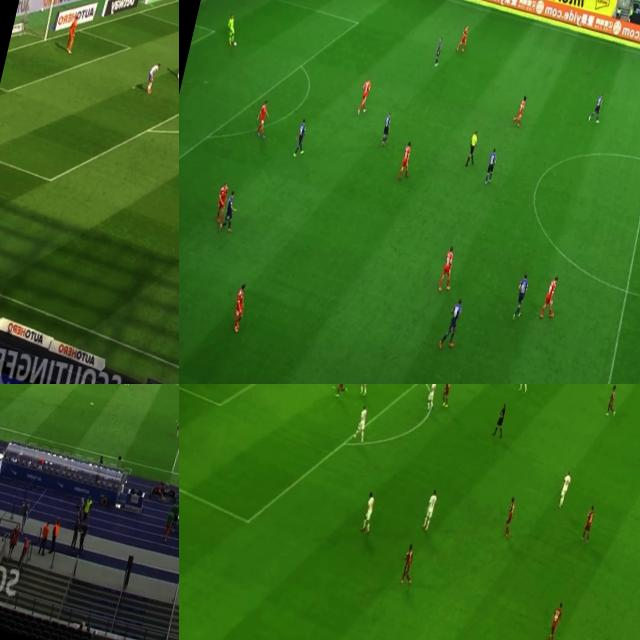ball: (231, 35, 240, 50), (88, 399, 95, 408)
player: (436, 297, 464, 353), (536, 274, 562, 324), (436, 241, 458, 298), (510, 271, 531, 322), (228, 278, 248, 329), (210, 181, 230, 232), (396, 137, 418, 183), (396, 541, 418, 587), (543, 596, 565, 640), (63, 7, 83, 54), (552, 469, 574, 511), (420, 486, 441, 530), (290, 114, 310, 160), (585, 88, 608, 126), (500, 495, 520, 538), (352, 75, 373, 115), (252, 96, 271, 140), (143, 56, 163, 96), (601, 384, 622, 419), (359, 490, 375, 534), (221, 190, 238, 230), (510, 91, 530, 124), (378, 108, 395, 143), (482, 146, 499, 180), (353, 406, 369, 442), (580, 504, 597, 537), (222, 13, 236, 48), (432, 33, 446, 68), (422, 384, 438, 412), (455, 22, 469, 52), (438, 384, 454, 407), (332, 384, 350, 399), (356, 384, 372, 398), (174, 37, 179, 80), (516, 384, 534, 394), (173, 414, 179, 436)
